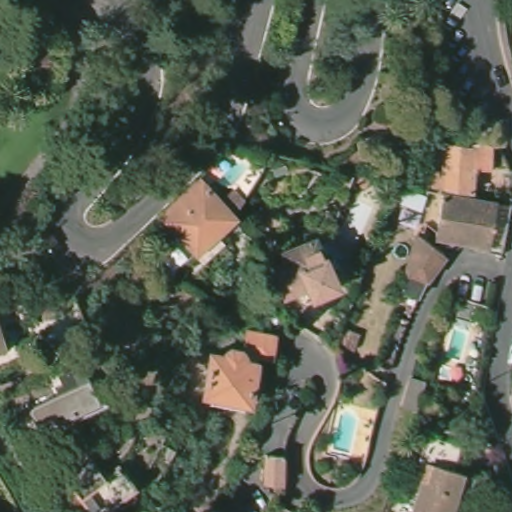pool: (328, 410, 362, 458), (445, 326, 470, 361), (220, 157, 249, 187)
